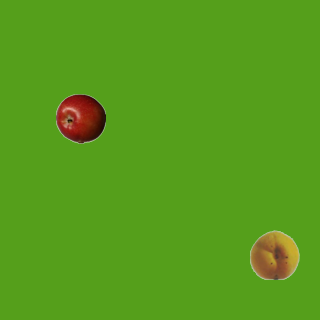Apple Braeburn: (55, 93, 105, 143)
Peach 2: (249, 229, 299, 279)
